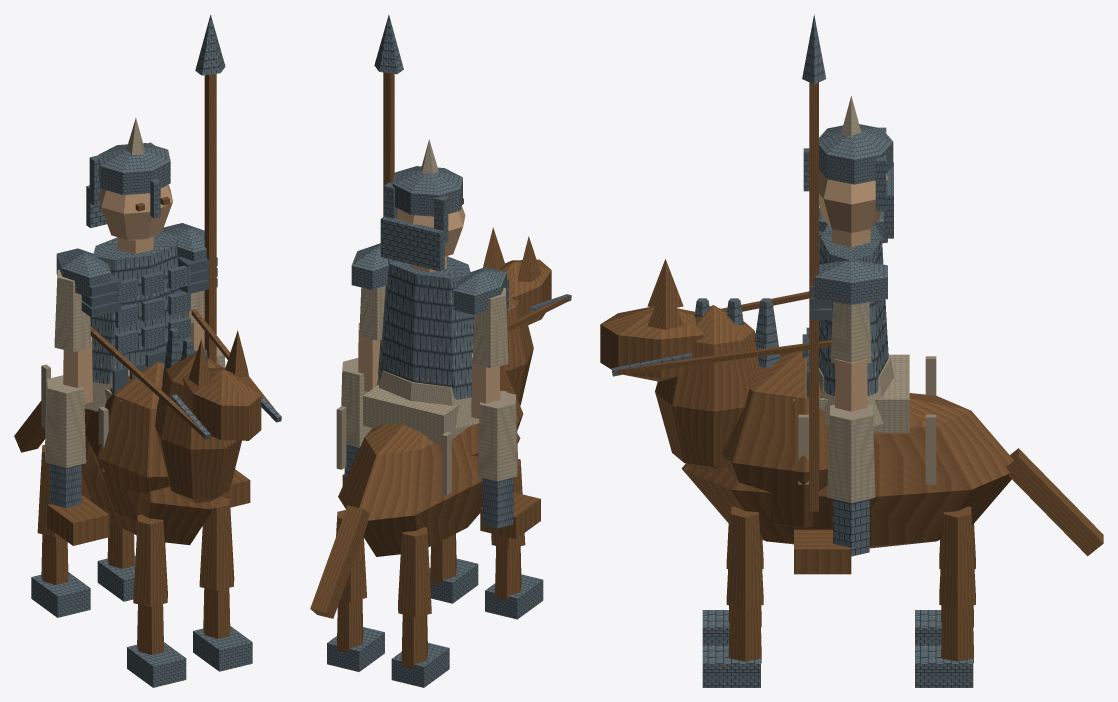
File: unit-CAVALRY-lod0.glb
3 views of the same model, side by side, from view 1: azimuth 30°, elevation 25°; view 2: azimuth 150°, elevation 25°; view 3: azimuth 270°, elevation 25° (orthographic). The views are drawn at different scales.
Bounding box in the file's own units: 0.218 × 0.705 × 0.4738.
Materials: 1 (1 with a texture image).
